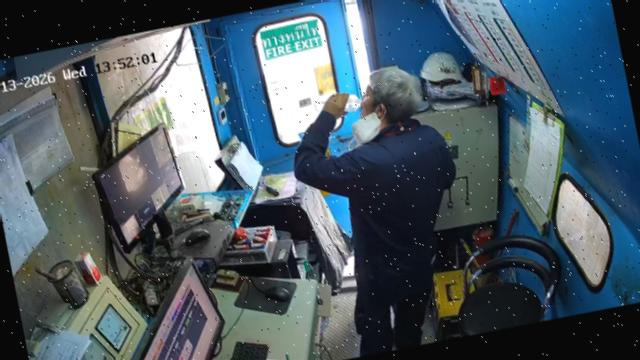Head: (360, 67, 425, 128)
People: (294, 68, 457, 357)
